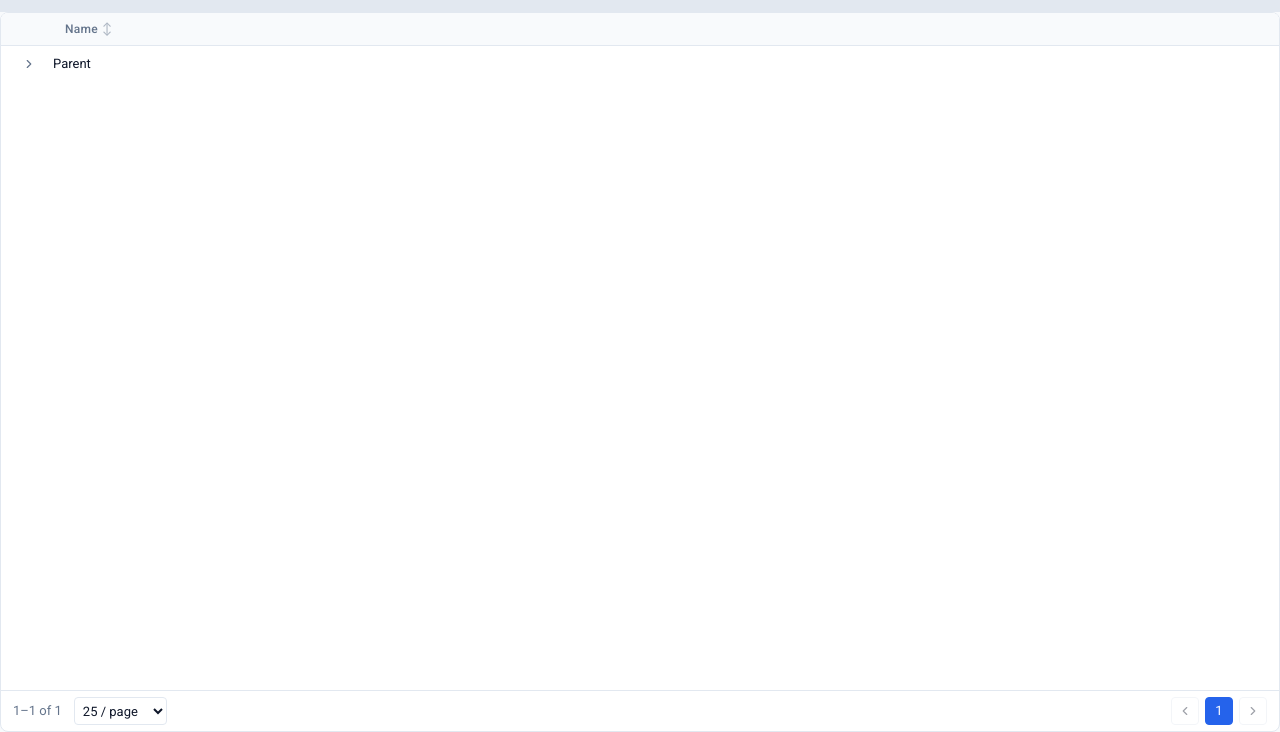
Scenario: DataTable contracts › tree mode: expanding a parent reveals child rows (paginateExpandedRows with pagination)
This screenshot has width=1280, height=732.
Click the button named "Expand" at (29, 64), box [13, 48, 45, 80]
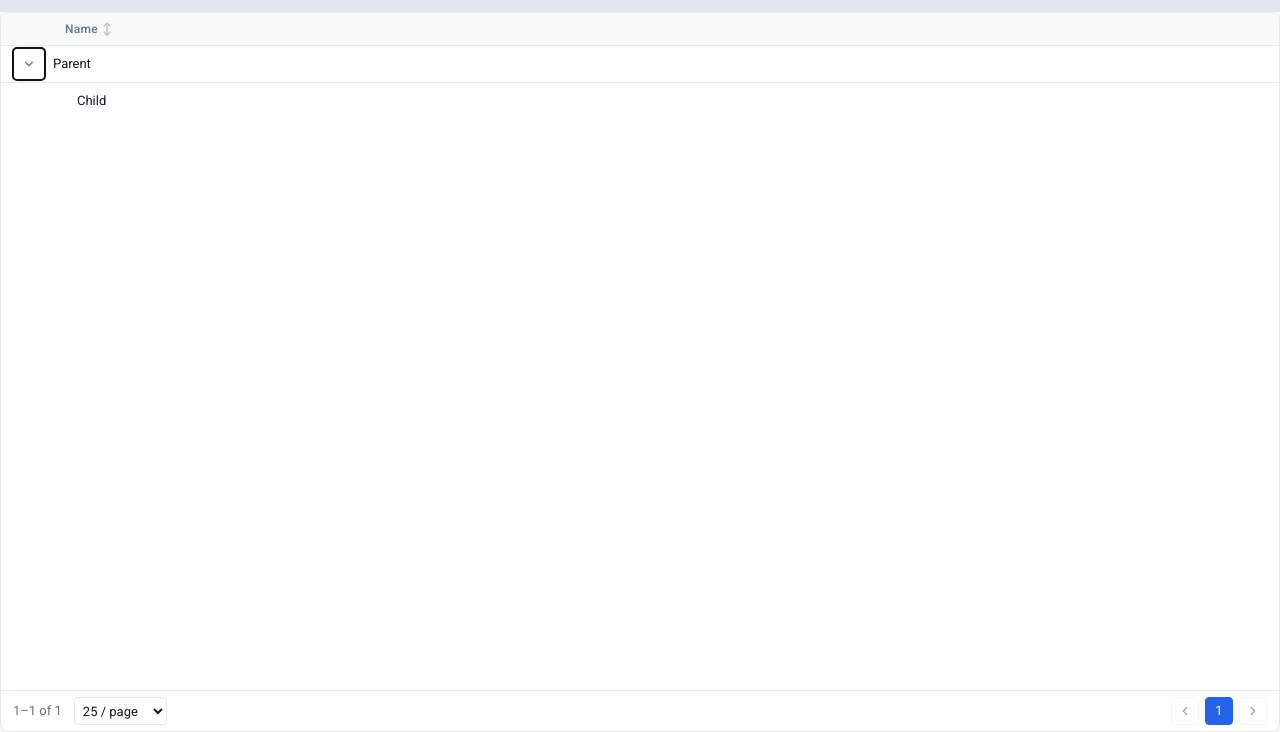
Check: the text "Child" is shown, box [77, 91, 106, 111]
